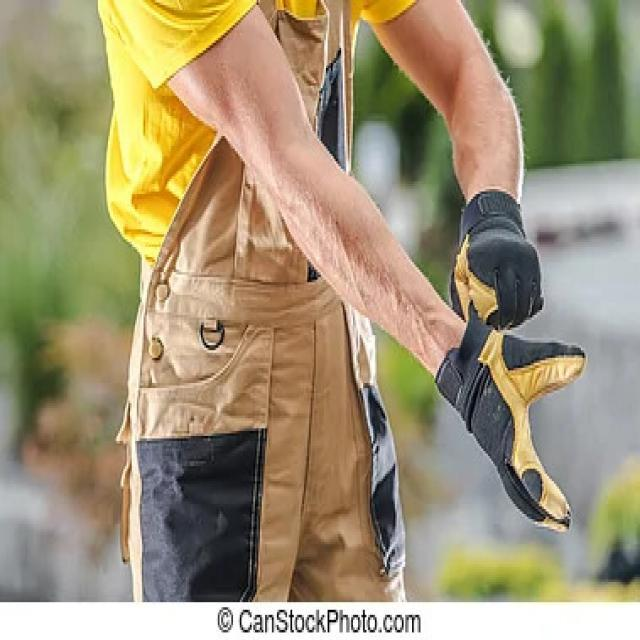gloves: (427, 307, 585, 538), (450, 192, 544, 328)
